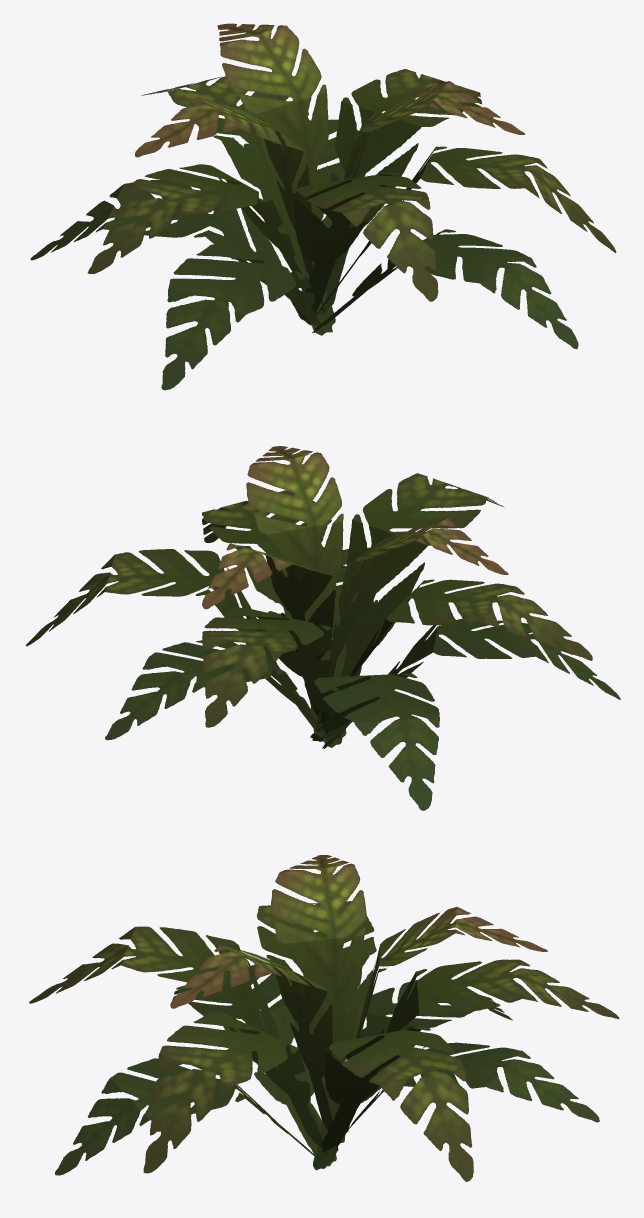
File: broadleaf_02.fbx
3 views of the same model, one above another, from view 1: azimuth 30°, elevation 25°; view 2: azimuth 150°, elevation 25°; view 3: azimuth 270°, elevation 25° (orthographic). The views are drawn at different scales.
Visible parts, largest first — view 1: obj0.073; view 2: obj0.073; view 3: obj0.073.
Part boxes in pixels (<box>): obj0.073: <box>30,23,616,390</box>; obj0.073: <box>25,446,620,810</box>; obj0.073: <box>29,855,619,1181</box>.
Bounding box in the file's own units: 2.95 × 1.35 × 2.94.
